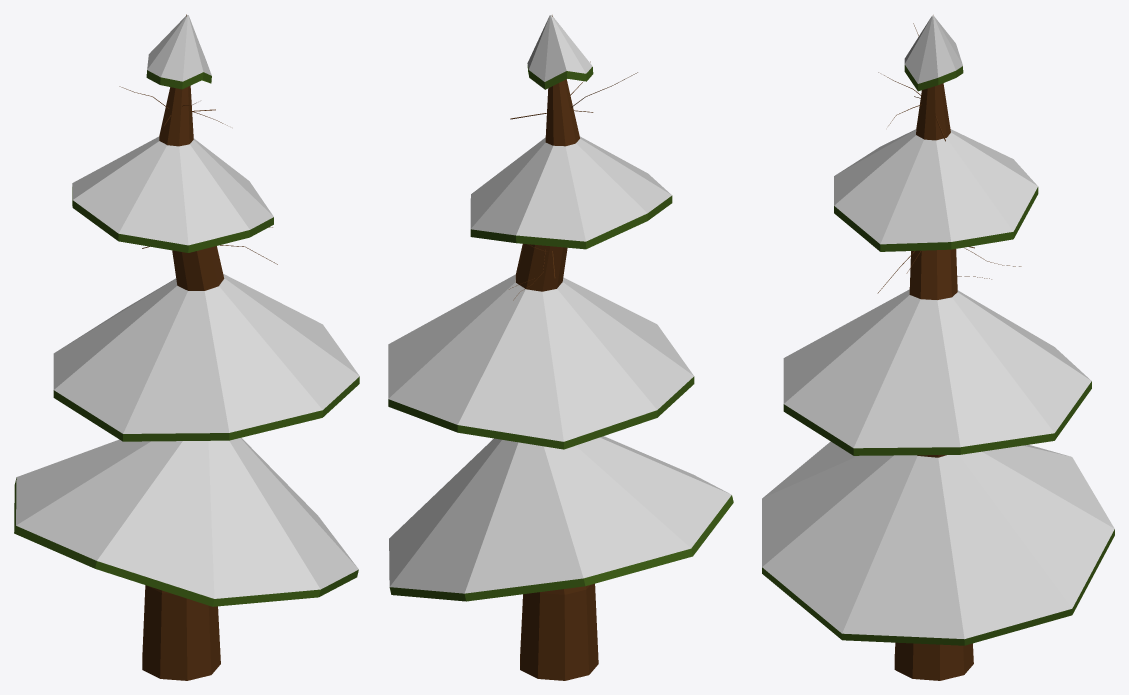
Rendered from Tree_13.fbx.
The picture shows the model from 3 angles, left to right: view 1: azimuth 30°, elevation 25°; view 2: azimuth 150°, elevation 25°; view 3: azimuth 270°, elevation 25°; orthographic projection.
Visible parts, largest first — view 1: Tree_13; view 2: Tree_13; view 3: Tree_13.
Part boxes in pixels (<box>): Tree_13: <box>14,14,359,680</box>; Tree_13: <box>388,15,733,680</box>; Tree_13: <box>762,15,1114,680</box>.
Bounding box in the file's own units: 262 × 529 × 259.
